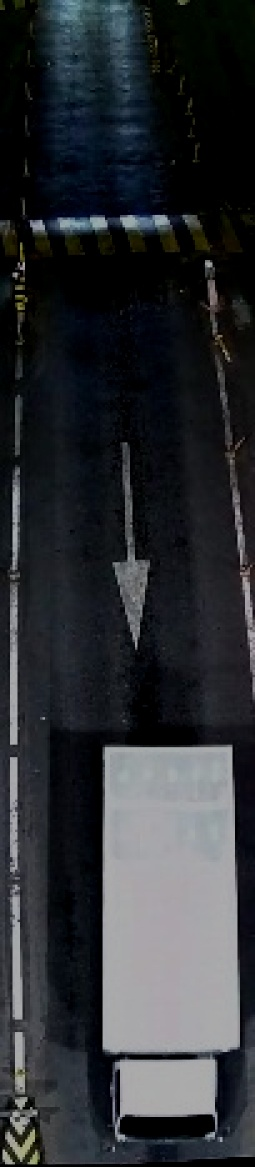truck: (101, 737, 245, 1144)
